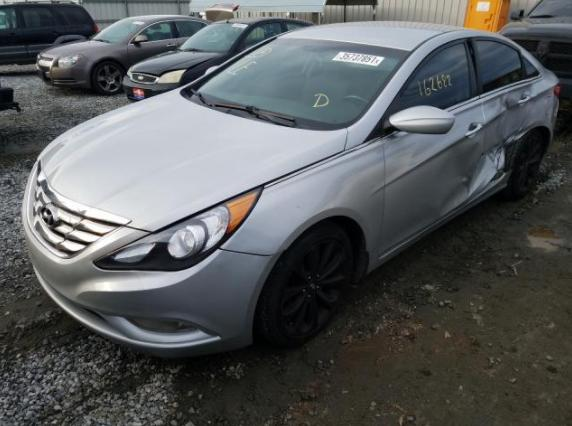Back-door: (468, 36, 539, 199)
Back-wheel: (501, 130, 545, 202)
Back-window: (476, 41, 521, 93), (524, 58, 539, 78)
Fender: (218, 136, 385, 274)
Front-bumper: (21, 159, 283, 360)
Front-door: (379, 37, 485, 258)
Front-wheel: (258, 218, 358, 351)
Front-window: (383, 44, 471, 129)
Grille: (33, 156, 133, 257)
Headlight: (93, 183, 265, 270)
Hood: (37, 83, 348, 232)
Mirror: (388, 105, 457, 139)
Quarter-panel: (509, 69, 560, 157)
Rocker-panel: (380, 167, 513, 266)
Roof: (277, 20, 475, 51)
Tail-light: (555, 83, 561, 99)
Windshield: (180, 38, 413, 131)
